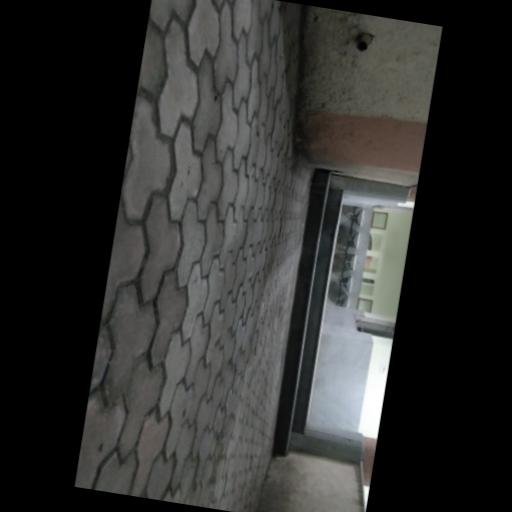stairs: (273, 168, 340, 454)
